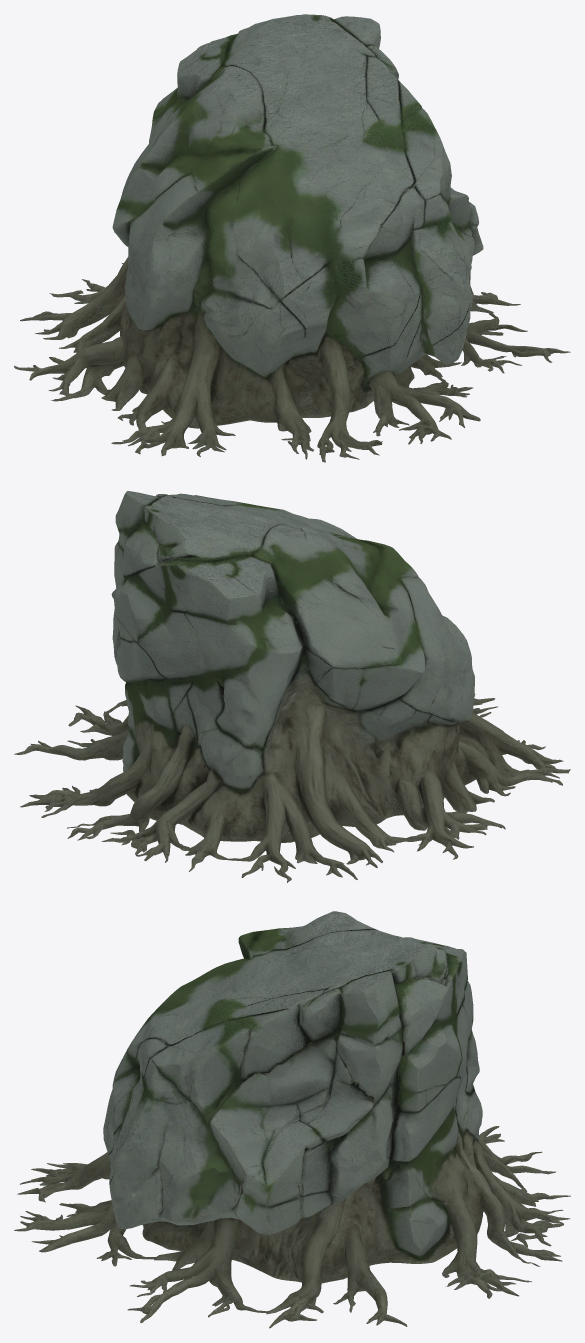
The model's file is forest-rock.glb.
3 views of the same model, one above another, from view 1: azimuth 30°, elevation 25°; view 2: azimuth 150°, elevation 25°; view 3: azimuth 270°, elevation 25° (orthographic). The views are drawn at different scales.
Visible parts, largest first — view 1: forest-rock-Mesh_0.023; view 2: forest-rock-Mesh_0.023; view 3: forest-rock-Mesh_0.023.
Part boxes in pixels (x1,y1,x2,y2): forest-rock-Mesh_0.023: [14, 14, 570, 462]; forest-rock-Mesh_0.023: [14, 491, 570, 882]; forest-rock-Mesh_0.023: [14, 911, 570, 1328].
Size of the model in its own units: 3.16 by 1.86 by 3.2.
Materials: 1 (1 with a texture image).
